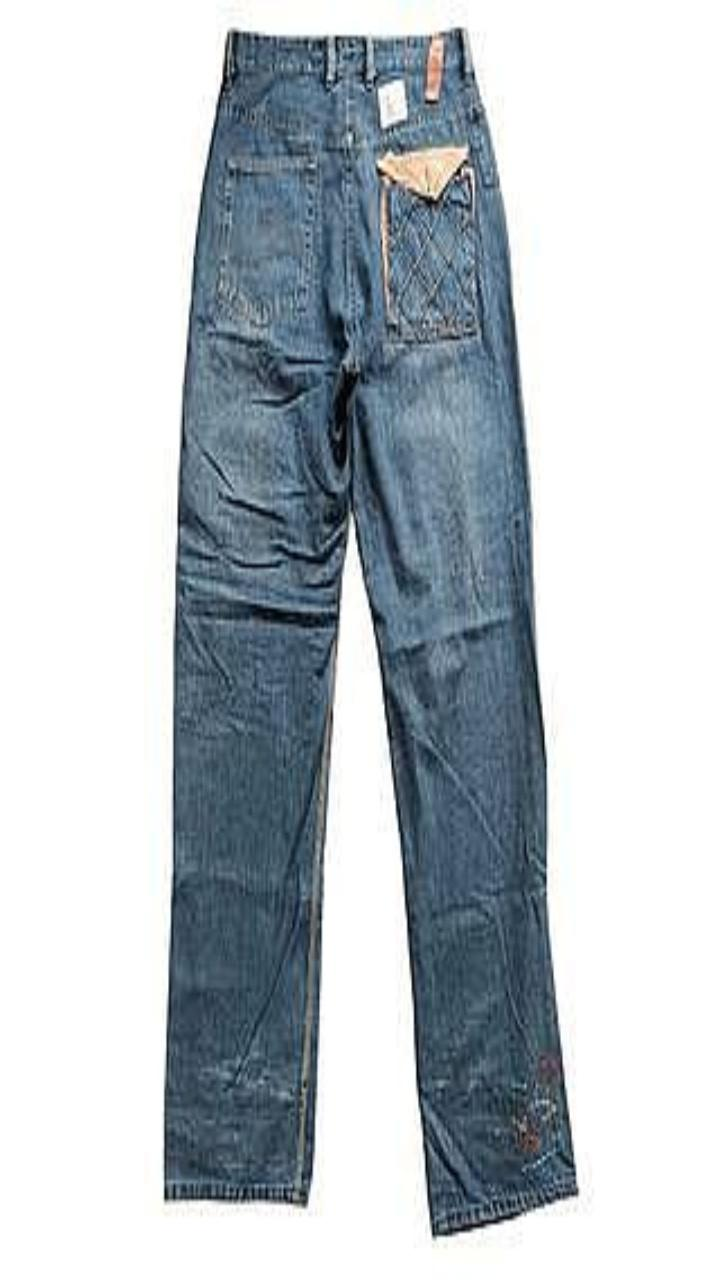Jeans: (165, 29, 576, 1233)
